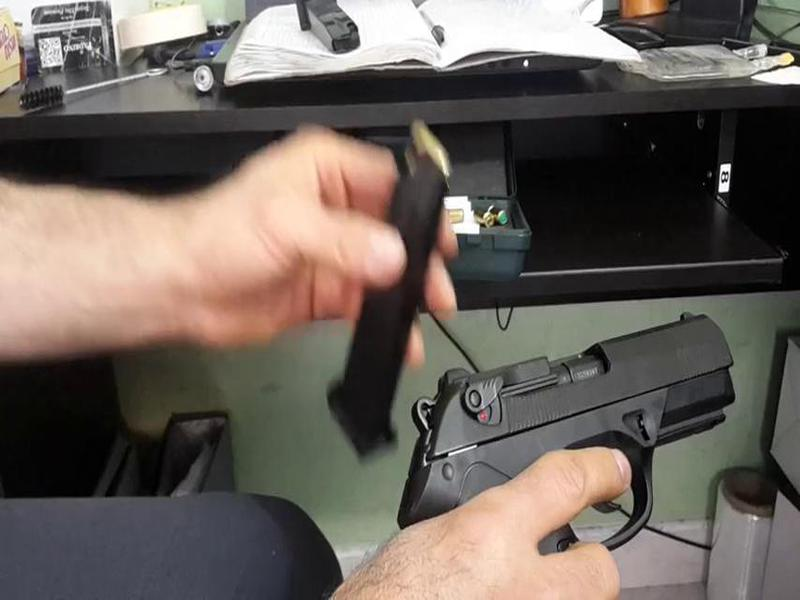Pistola: (403, 312, 769, 565)
